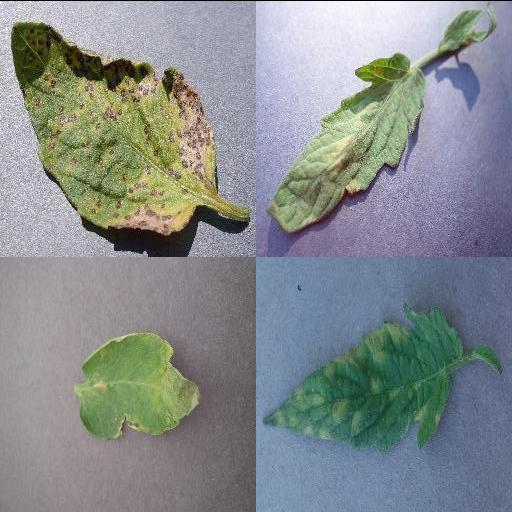Late Blight: (78, 332, 202, 440)
Leaf Mold: (261, 303, 465, 453), (266, 50, 426, 231)
Septoria: (9, 20, 217, 234)
